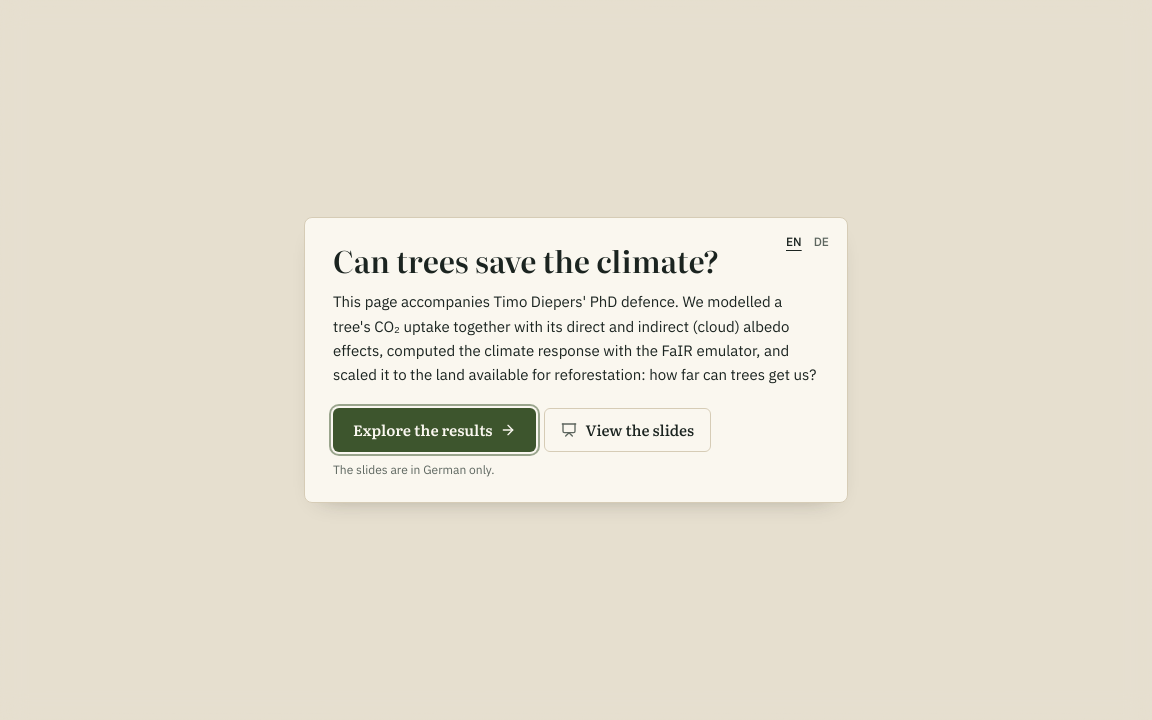
it: Welcome › switches to German
What coordinates should you click on to do the following:
click the button "de"
I would click on:
 (821, 242)
Its box is [808,230,835,254].
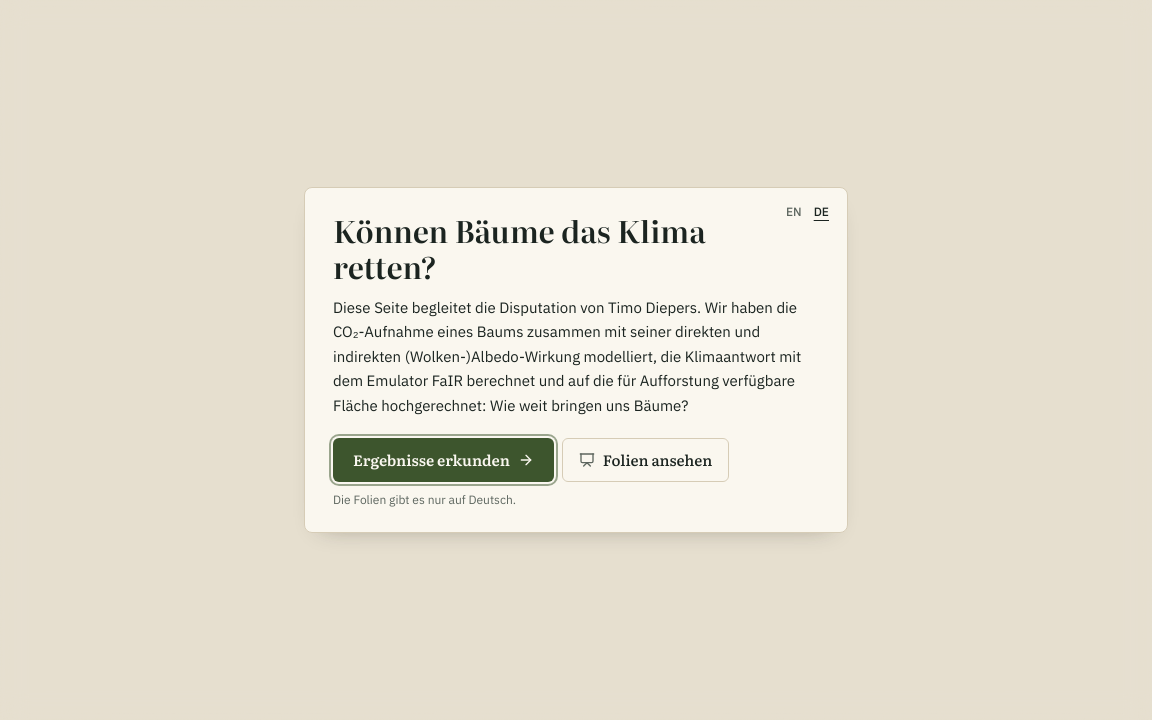
Result: the dialog "Können Bäume das Klima retten?" is shown at [304,187,848,533]
